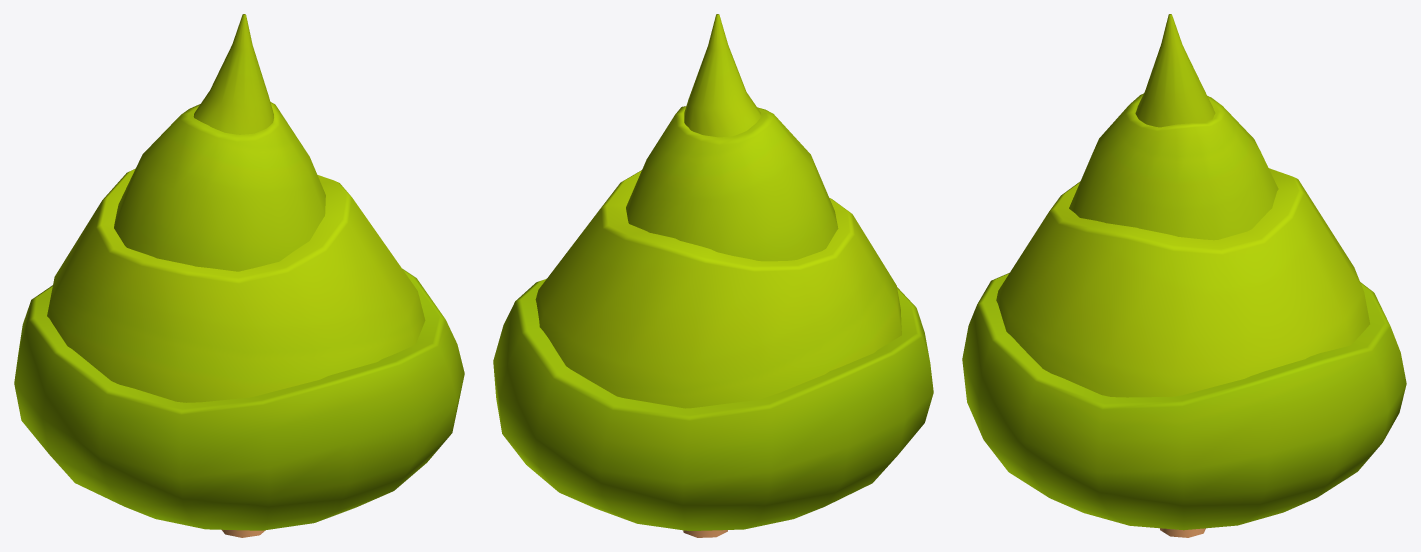
Rendered from Tree11.FBX.
The picture shows the model from 3 angles, left to right: view 1: azimuth 30°, elevation 25°; view 2: azimuth 150°, elevation 25°; view 3: azimuth 270°, elevation 25°; orthographic projection.
Parts seen in each view (by area): view 1: Tree11; view 2: Tree11; view 3: Tree11.
Part boxes in pixels (<box>): Tree11: <box>14,14,464,537</box>; Tree11: <box>493,14,933,537</box>; Tree11: <box>962,14,1406,537</box>.
Bounding box in the file's own units: 200 × 253 × 199.
